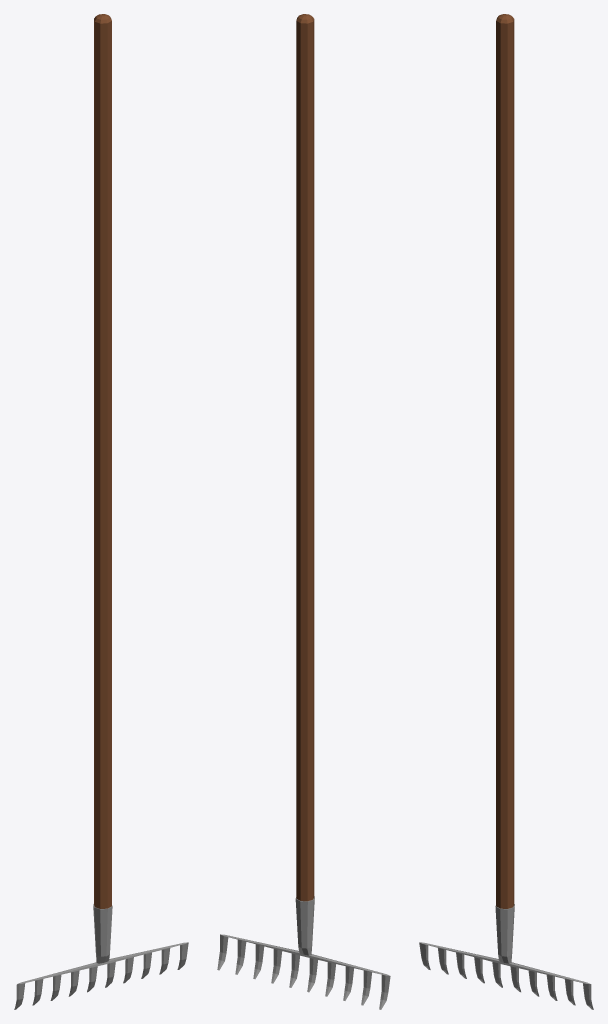
The model's file is rake01.gltf.
3 renders of one model, left to right at view 1: azimuth 30°, elevation 25°; view 2: azimuth 150°, elevation 25°; view 3: azimuth 330°, elevation 25°, orthographic.
Visible parts, largest first — view 1: Cylinder; view 2: Cylinder; view 3: Cylinder.
Boxes of the visible parts, left/top/right/bottom form: Cylinder: left=14, top=14, right=188, bottom=1009; Cylinder: left=217, top=14, right=390, bottom=1009; Cylinder: left=419, top=14, right=593, bottom=1009.
Size of the model in its own units: 0.2847 by 1.55 by 0.0319.
1 material, 1 textured.
